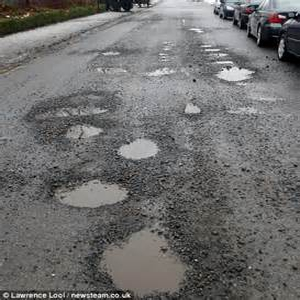pothole: (91, 220, 205, 300), (45, 171, 131, 211), (28, 101, 110, 119), (115, 135, 163, 160), (62, 120, 105, 141), (212, 66, 255, 80), (183, 102, 203, 117)
